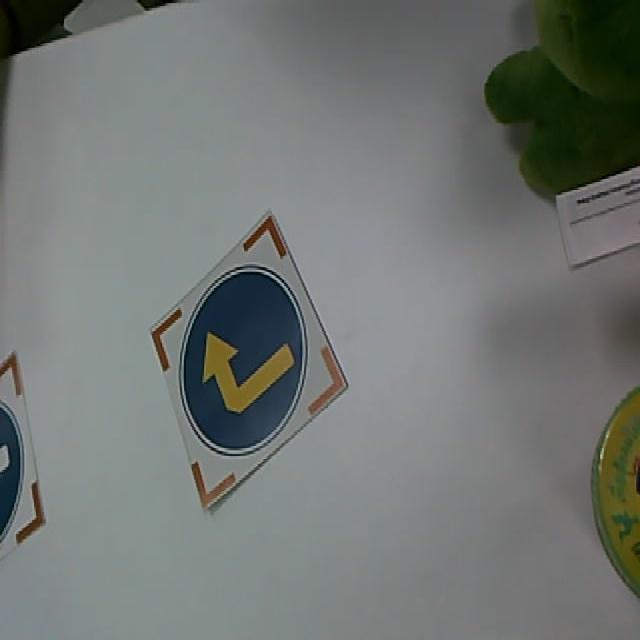turn: (176, 268, 307, 453)
